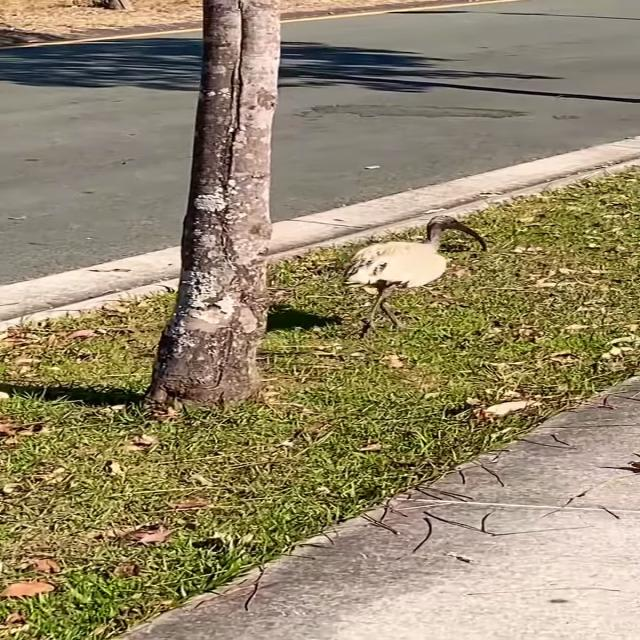Birds-Ibis: (329, 210, 492, 333)
